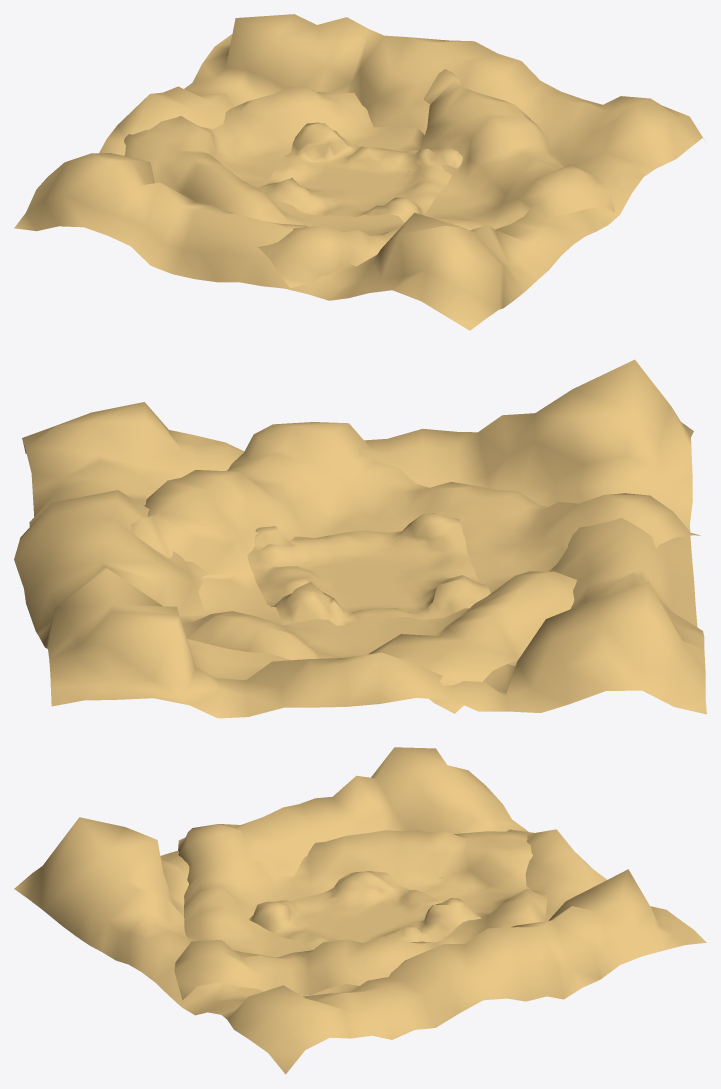
The model's file is ground.fbx.
3 renders of one model, top to bottom at view 1: azimuth 30°, elevation 25°; view 2: azimuth 150°, elevation 25°; view 3: azimuth 270°, elevation 25°, orthographic. The views are drawn at different scales.
Visible parts, largest first — view 1: pPlane3, pPlane2, pPlane1; view 2: pPlane3, pPlane2, pPlane1; view 3: pPlane3, pPlane2, pPlane1.
Boxes of the visible parts, bbox=[...] form: pPlane3: bbox=[14, 14, 704, 330]; pPlane2: bbox=[124, 69, 614, 287]; pPlane1: bbox=[258, 122, 462, 222]; pPlane3: bbox=[14, 359, 706, 718]; pPlane2: bbox=[131, 422, 700, 713]; pPlane1: bbox=[247, 513, 490, 625]; pPlane3: bbox=[14, 747, 706, 1074]; pPlane2: bbox=[174, 824, 547, 1000]; pPlane1: bbox=[249, 871, 481, 949].
Size of the model in its own units: 518 by 73.5 by 524.
